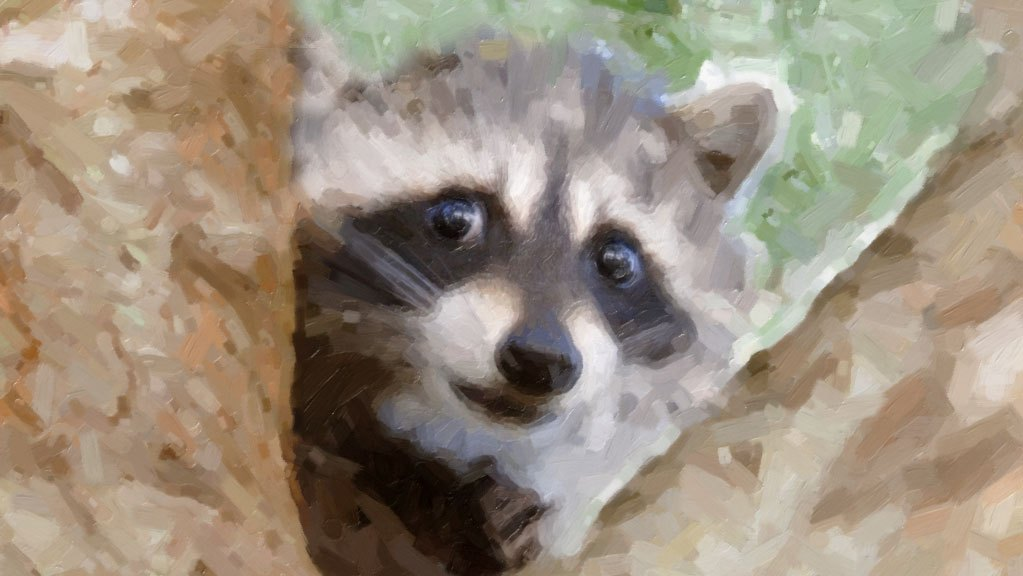raccoon: (255, 12, 807, 547)
